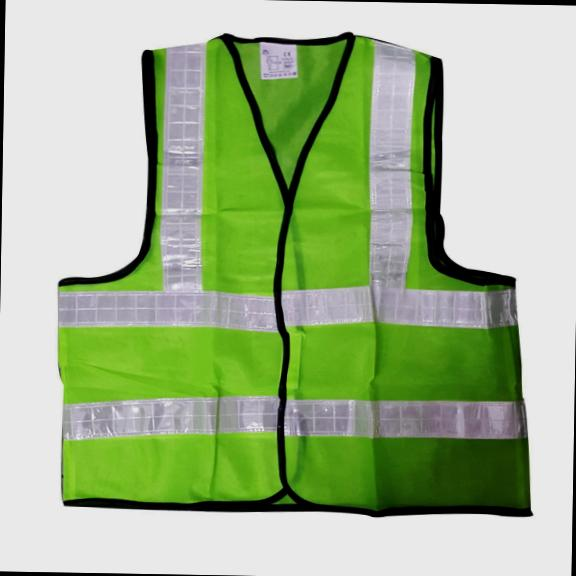safety_vest: (52, 30, 544, 518)
